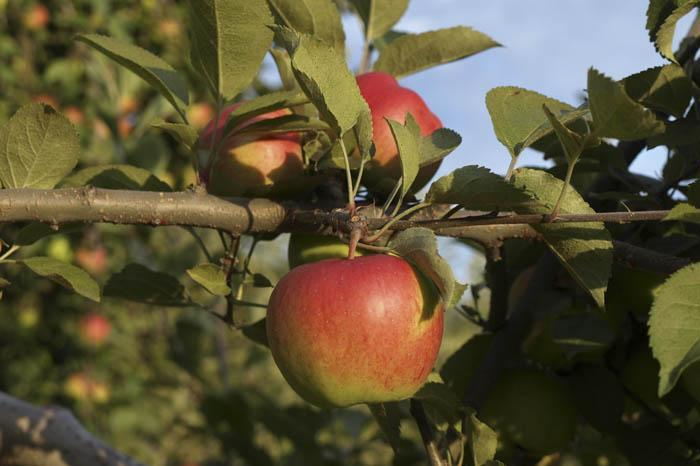apple: (258, 249, 452, 406)
